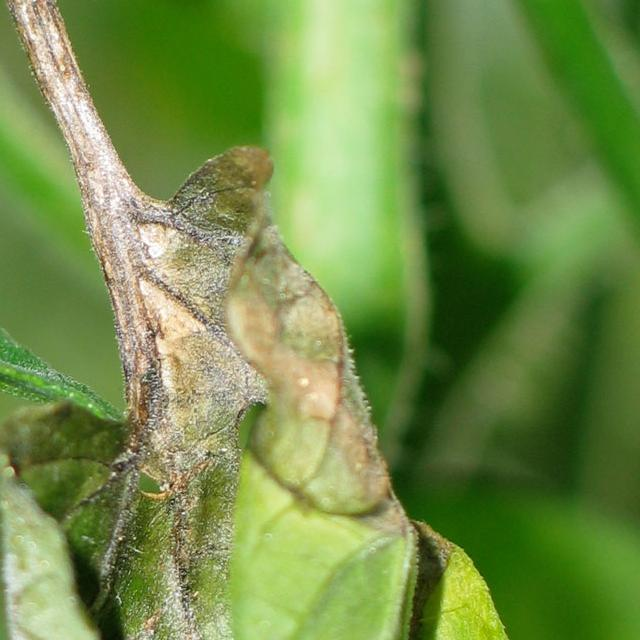Tomato leaf late blight: (0, 94, 640, 640)
